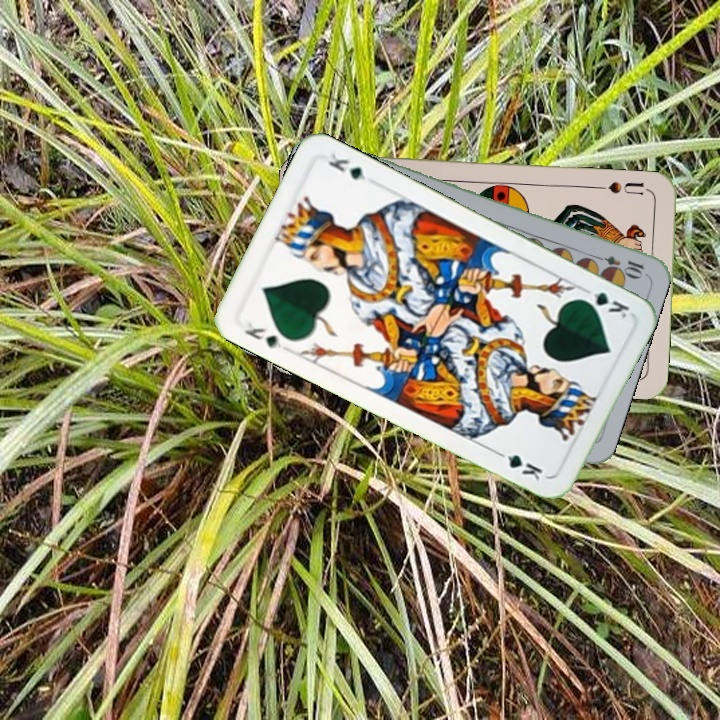E10: (588, 250, 647, 279)
GK: (575, 283, 632, 321), (241, 318, 290, 353)
SU: (594, 178, 653, 198)
